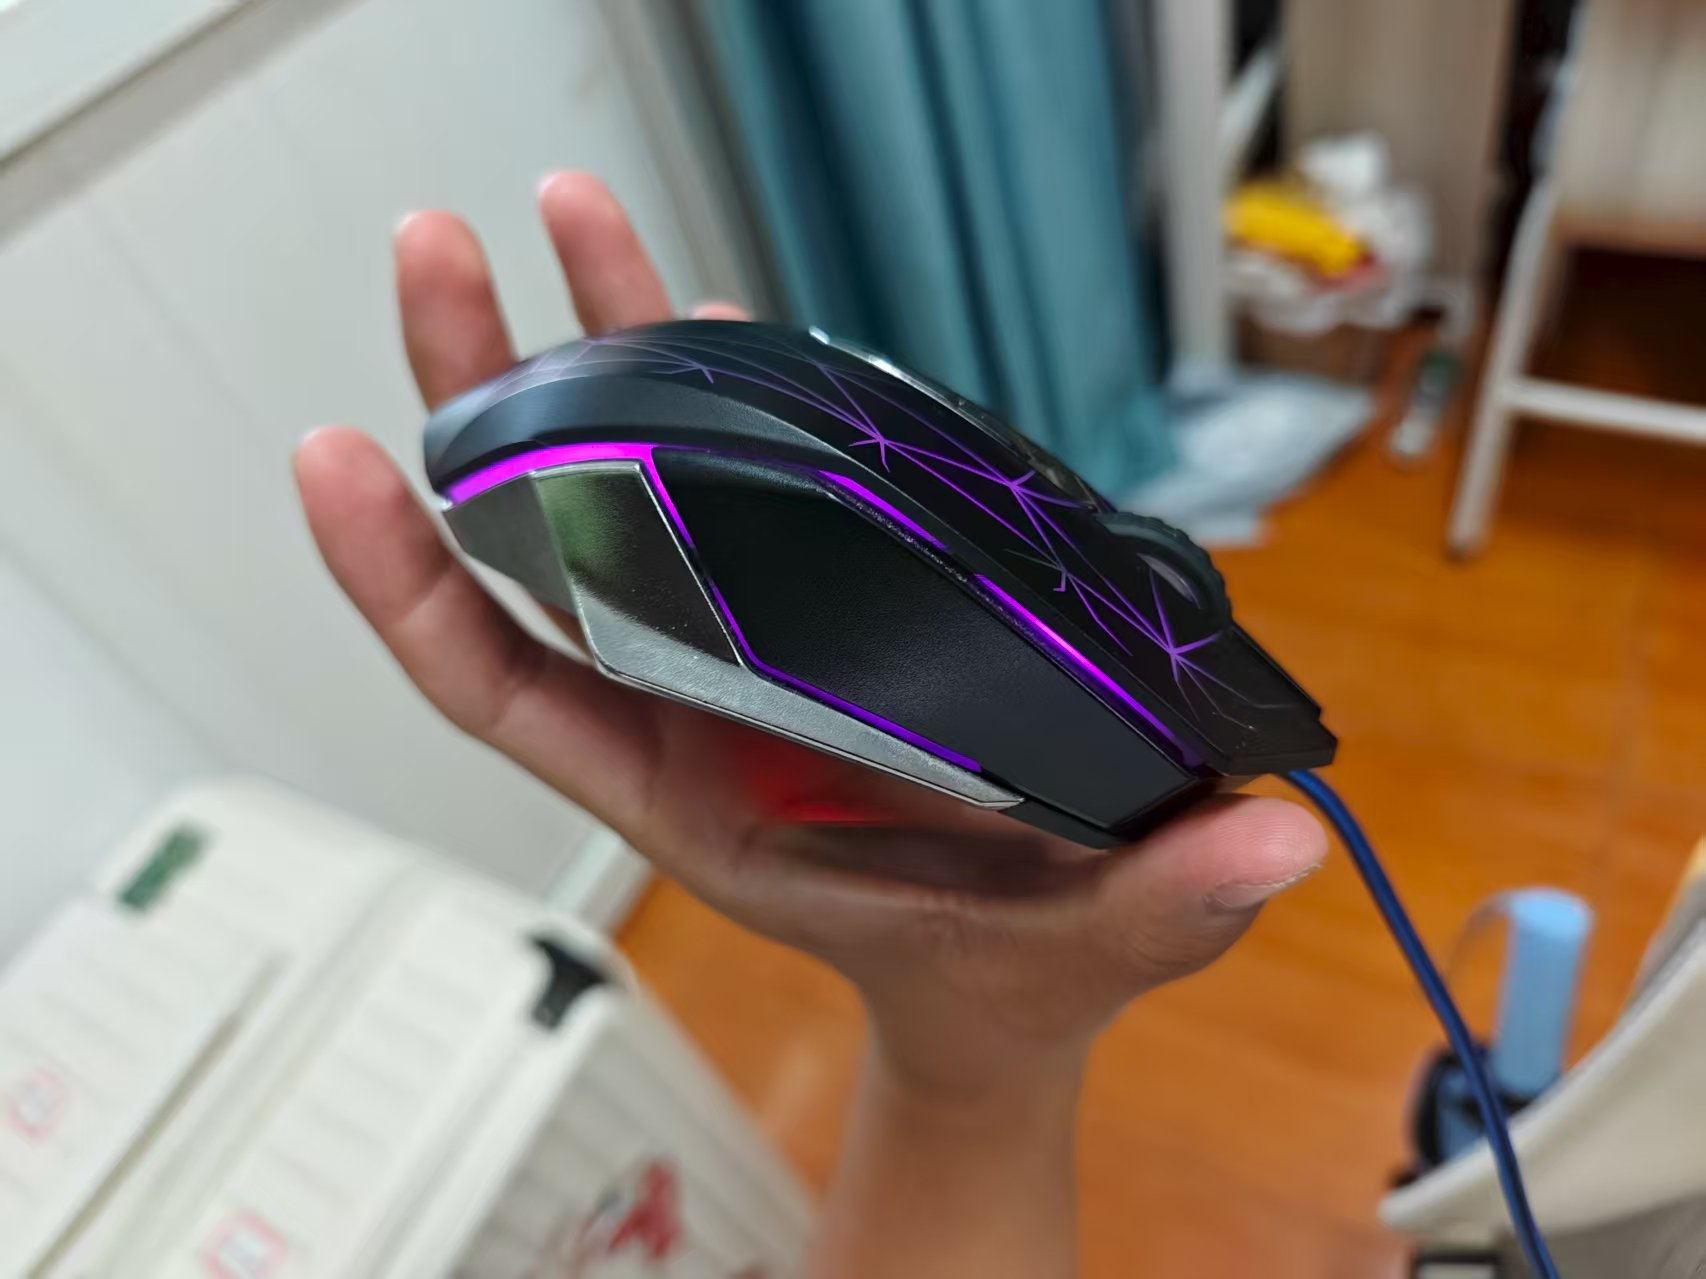mouse: (393, 326, 1395, 848)
